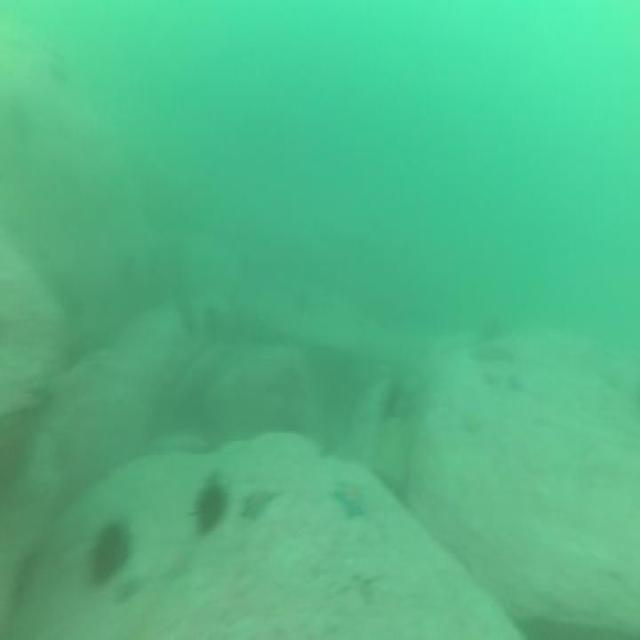echinus: (85, 515, 135, 590), (190, 477, 230, 534)
starfish: (332, 476, 369, 528), (237, 484, 282, 526)
